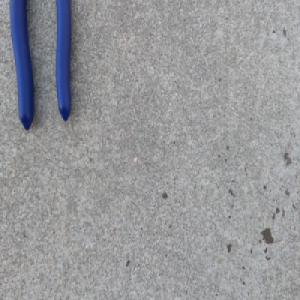Pliers: (7, 0, 73, 132)
